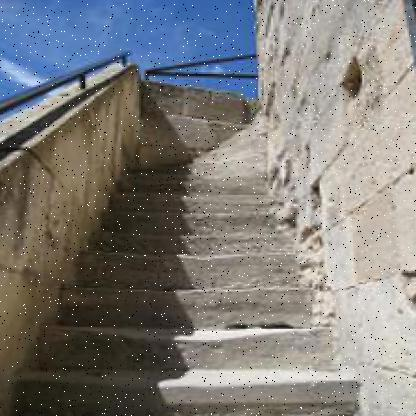stair_up: (48, 154, 327, 407)
